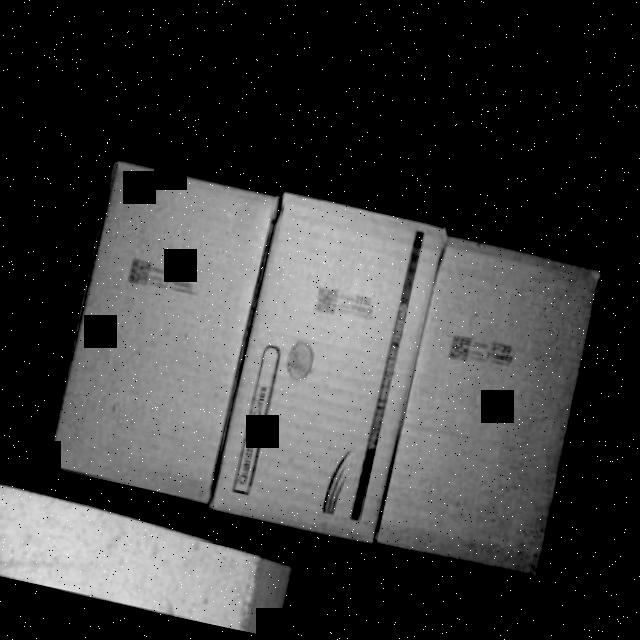box: (40, 156, 282, 506), (210, 188, 446, 546), (378, 230, 606, 574)
